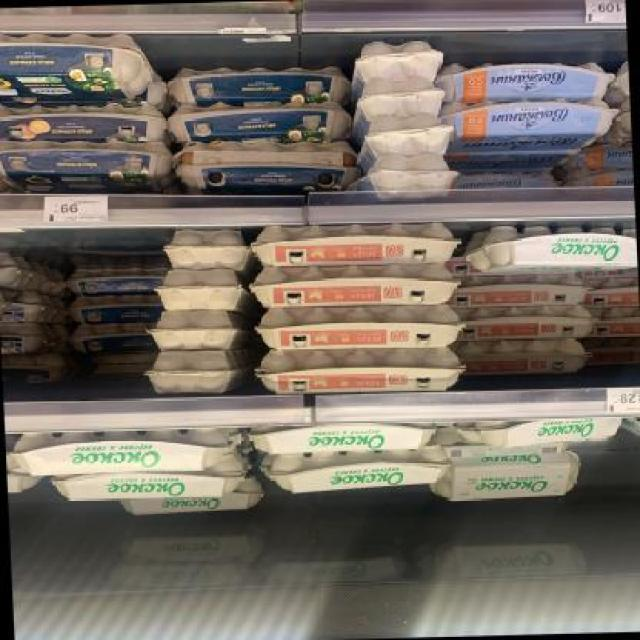egg: (0, 29, 152, 105), (12, 428, 235, 476), (248, 221, 461, 271), (0, 134, 175, 194), (255, 348, 468, 397), (175, 139, 359, 195), (254, 303, 463, 352), (252, 262, 460, 310), (464, 222, 638, 276), (168, 63, 348, 111), (265, 450, 450, 496), (170, 104, 352, 148), (245, 416, 438, 456), (439, 454, 584, 506), (55, 464, 248, 502), (0, 103, 169, 145), (462, 336, 592, 378), (460, 303, 594, 342), (456, 272, 590, 311), (372, 153, 458, 199), (366, 112, 452, 158), (360, 73, 446, 119), (157, 268, 243, 312), (154, 310, 240, 352), (161, 230, 251, 268), (156, 351, 230, 395), (71, 295, 164, 327), (69, 267, 165, 296)
